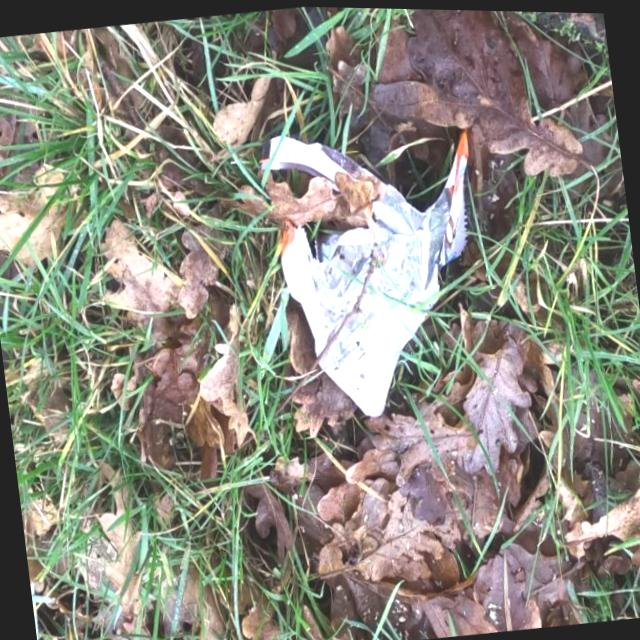Plastic: (248, 99, 506, 436)
